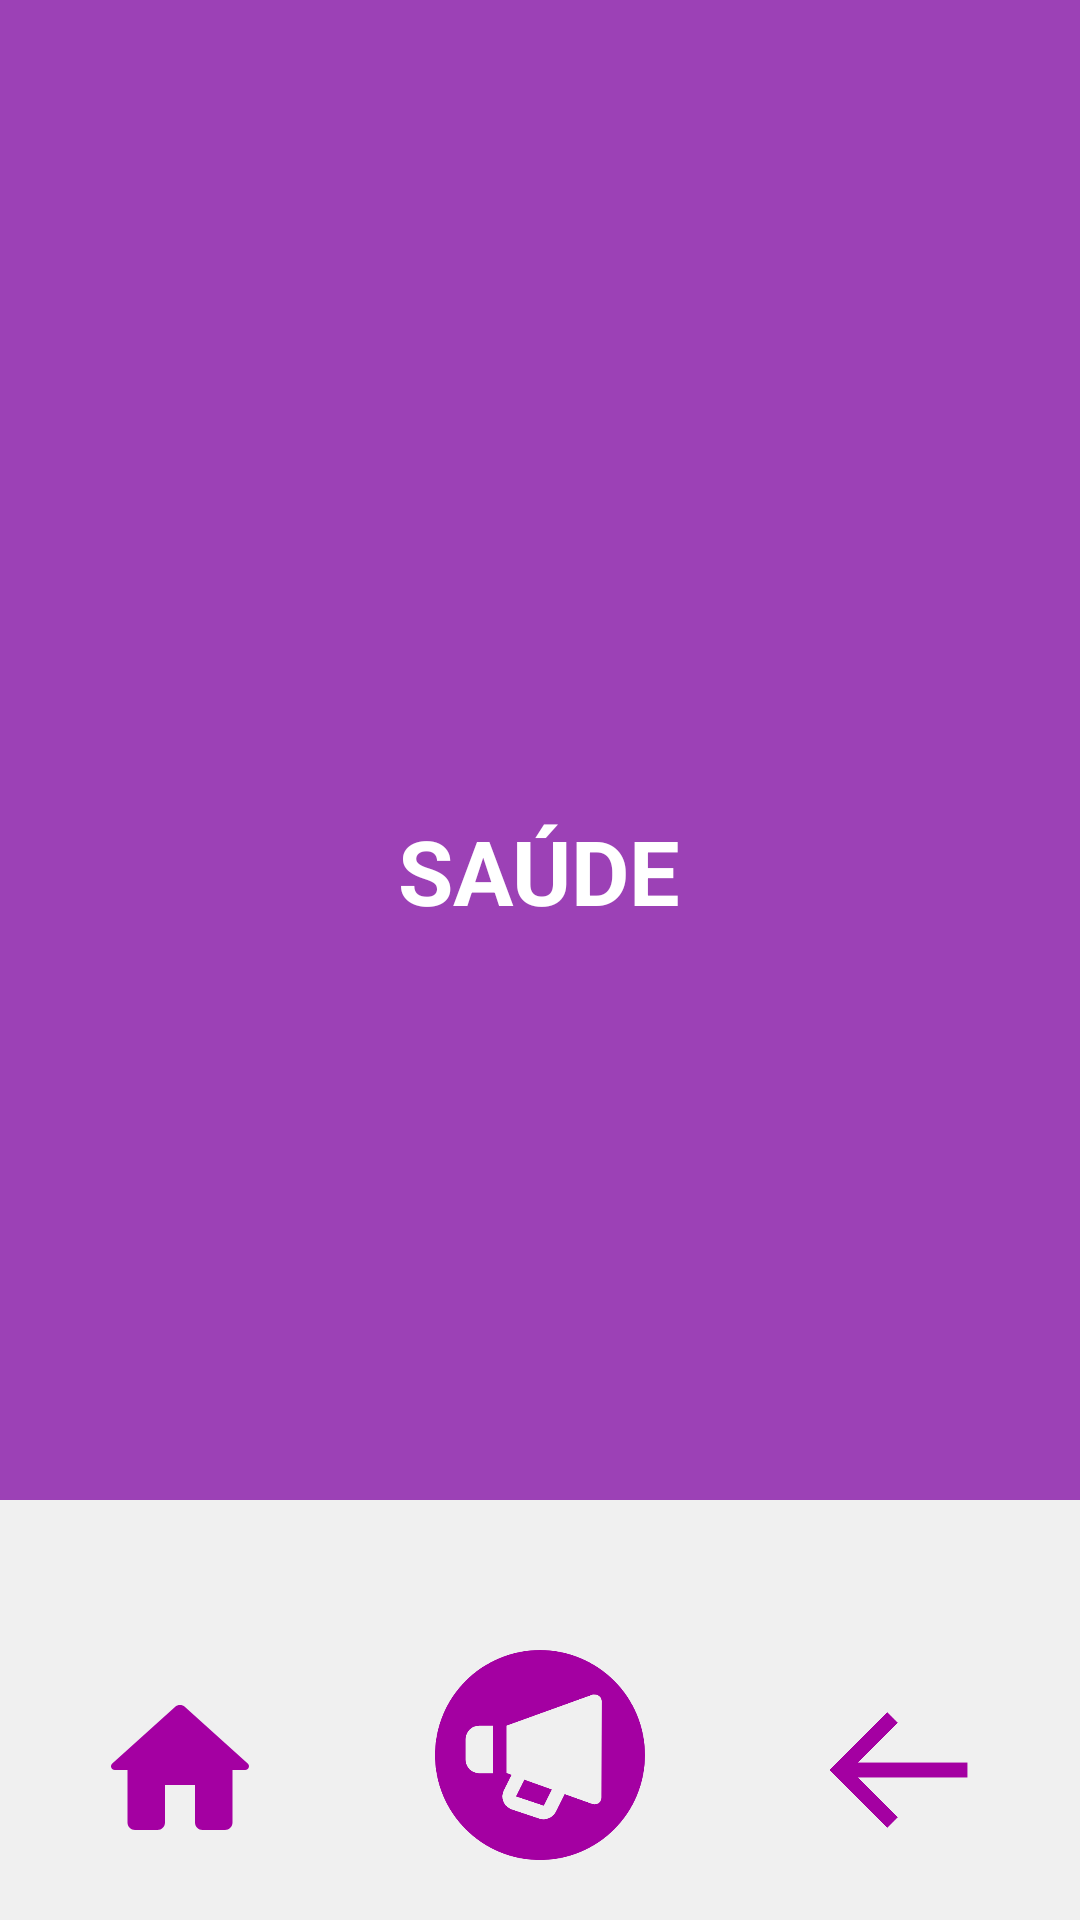

Named icons in this screenshot (1080w x 1920h) and their centers, point (x, y):
arrow back: point (899, 1770)
home: point (180, 1767)
megaphone: point (540, 1755)
